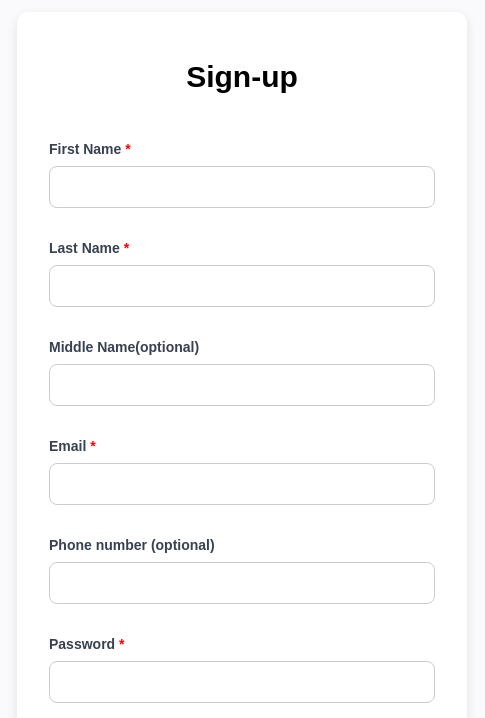
prevents submission when passwords do not match
The image size is (485, 718).
// Required fields
Step 1. Type "Joe" into the field labelled "First Name" → (242, 187), box [49,166,435,208]
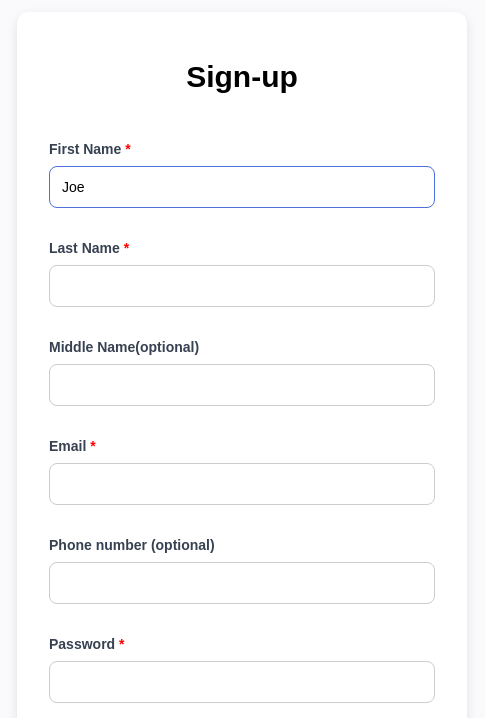
Step 2. Type "Bloggs" into the field labelled "Last Name" → (242, 286), box [49,265,435,307]
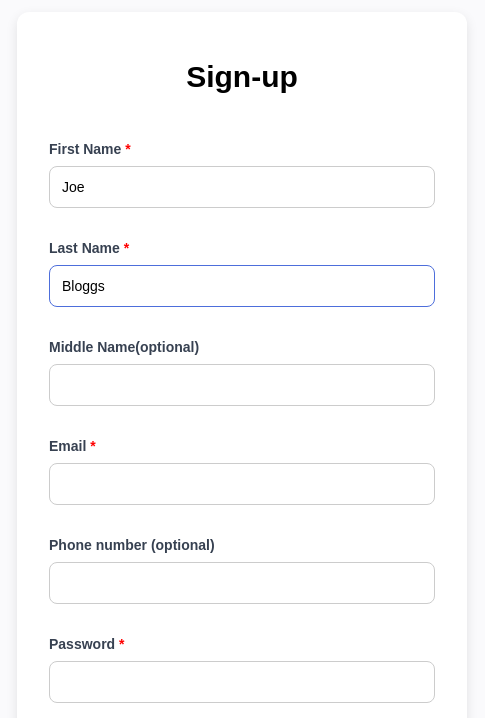
Step 3. Type "joebloggs@gmail.com" into the field labelled "Email" → (242, 484), box [49,463,435,505]
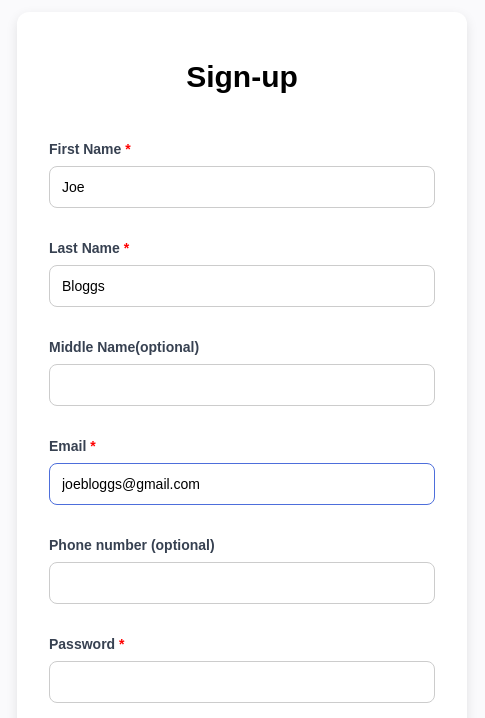
Step 4. Type "testPassword123$" into the password field labelled "Password" → (242, 682), box [49,661,435,703]
(page scrolled)
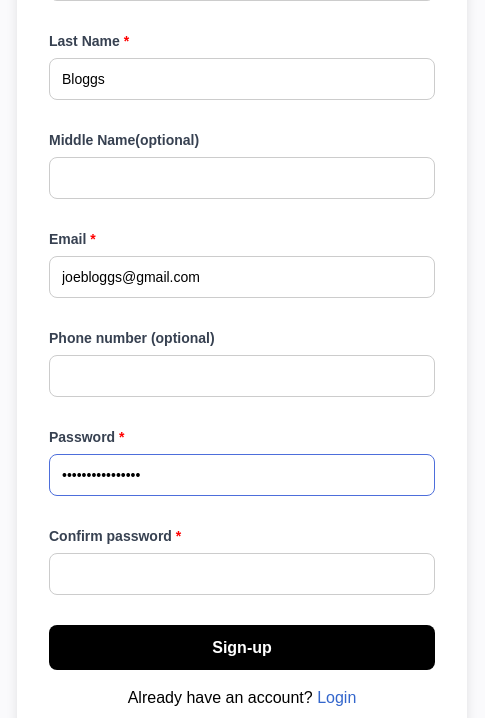
Step 5. Type "TestPassword123$" into the password field labelled "Confirm password" → (242, 574), box [49,553,435,595]
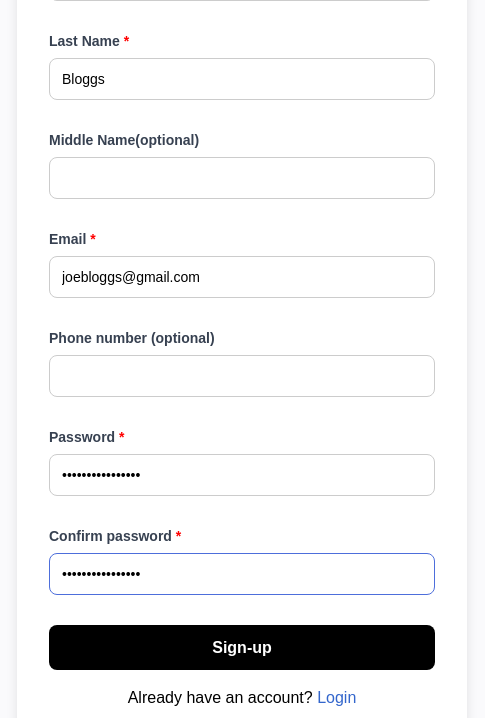
// Submit form
Step 6. Click the button "Sign-up" → (242, 648), box [49,625,435,670]
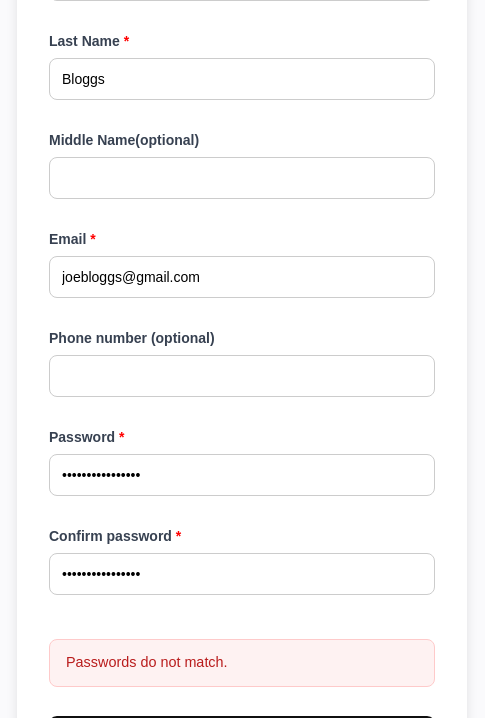
Result: the text "Passwords do not match." is shown at [49,639,435,687]
